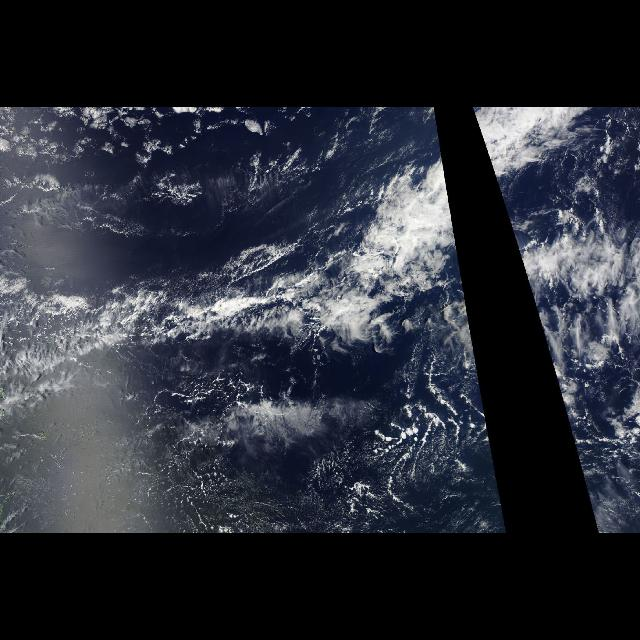Fish: (0, 109, 480, 389), (473, 110, 599, 380)
Gravel: (287, 389, 509, 533), (556, 389, 634, 533)
